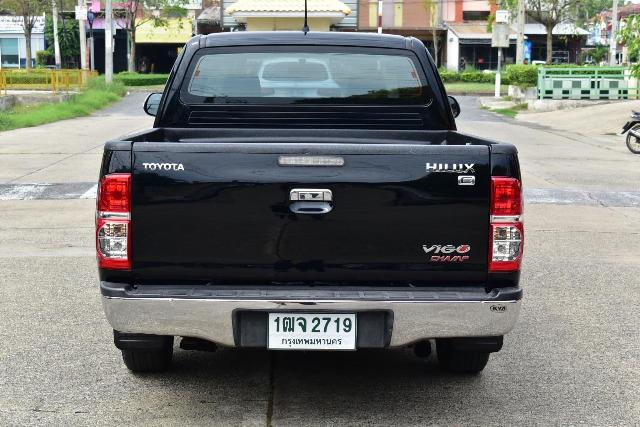pickup-truck: (84, 17, 529, 383)
